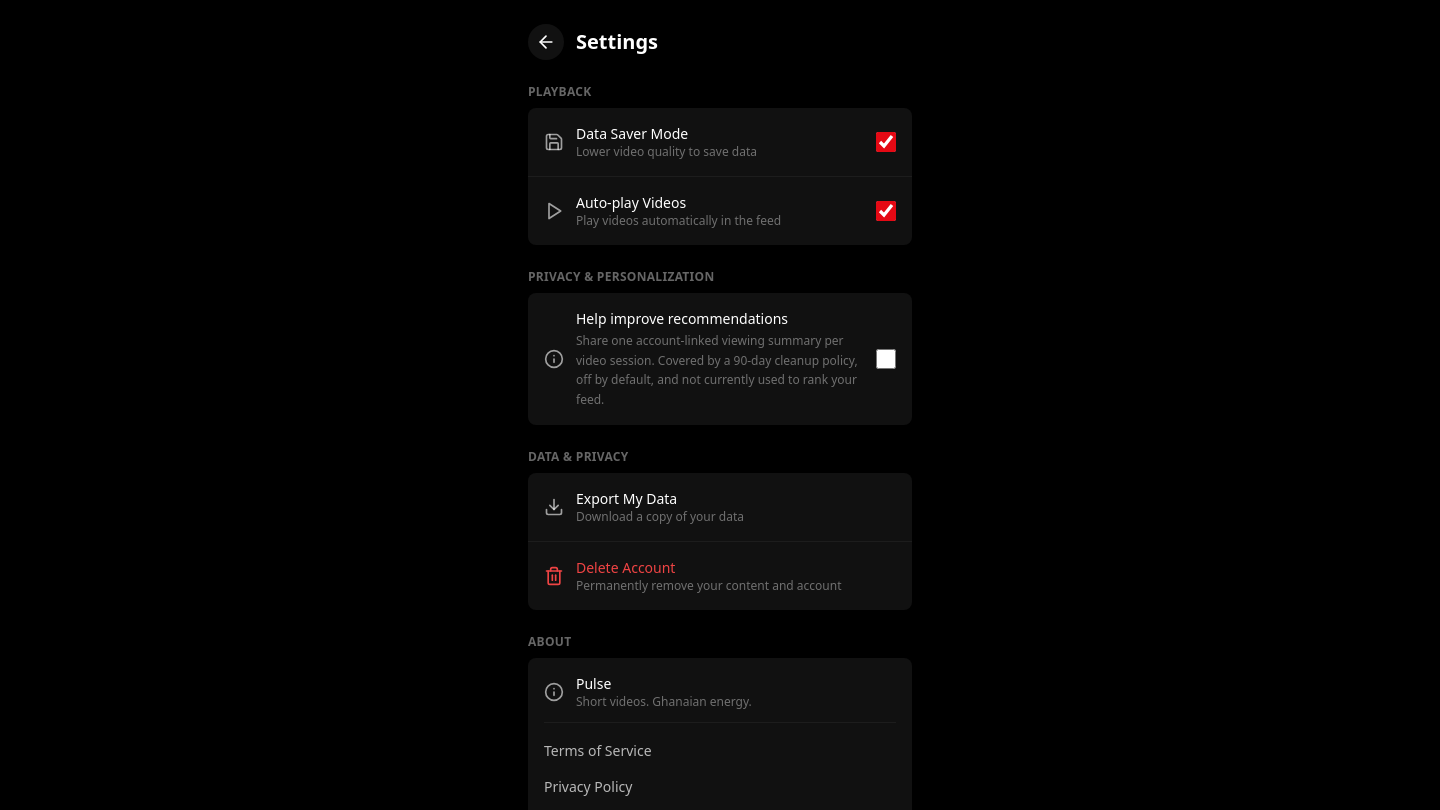
Test: SettingsScreen › shows Delete Account confirmation and can cancel it
Later steps or results of the test are not shown.
Click the text "Delete Account" at [626, 568], box x1=576 y1=558 x2=675 y2=577
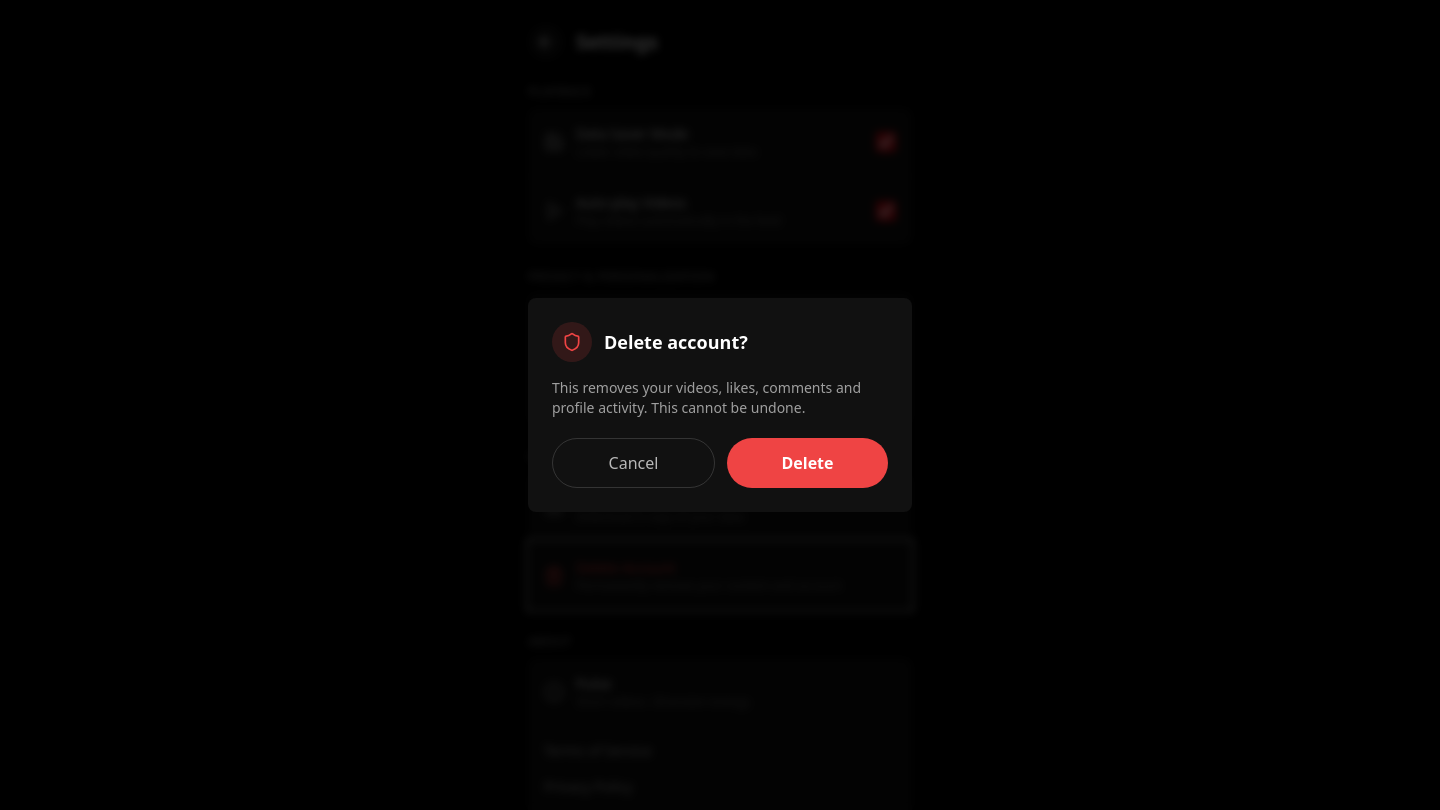
expect the heading "Delete account?" is shown: met, box x1=604 y1=328 x2=748 y2=356
